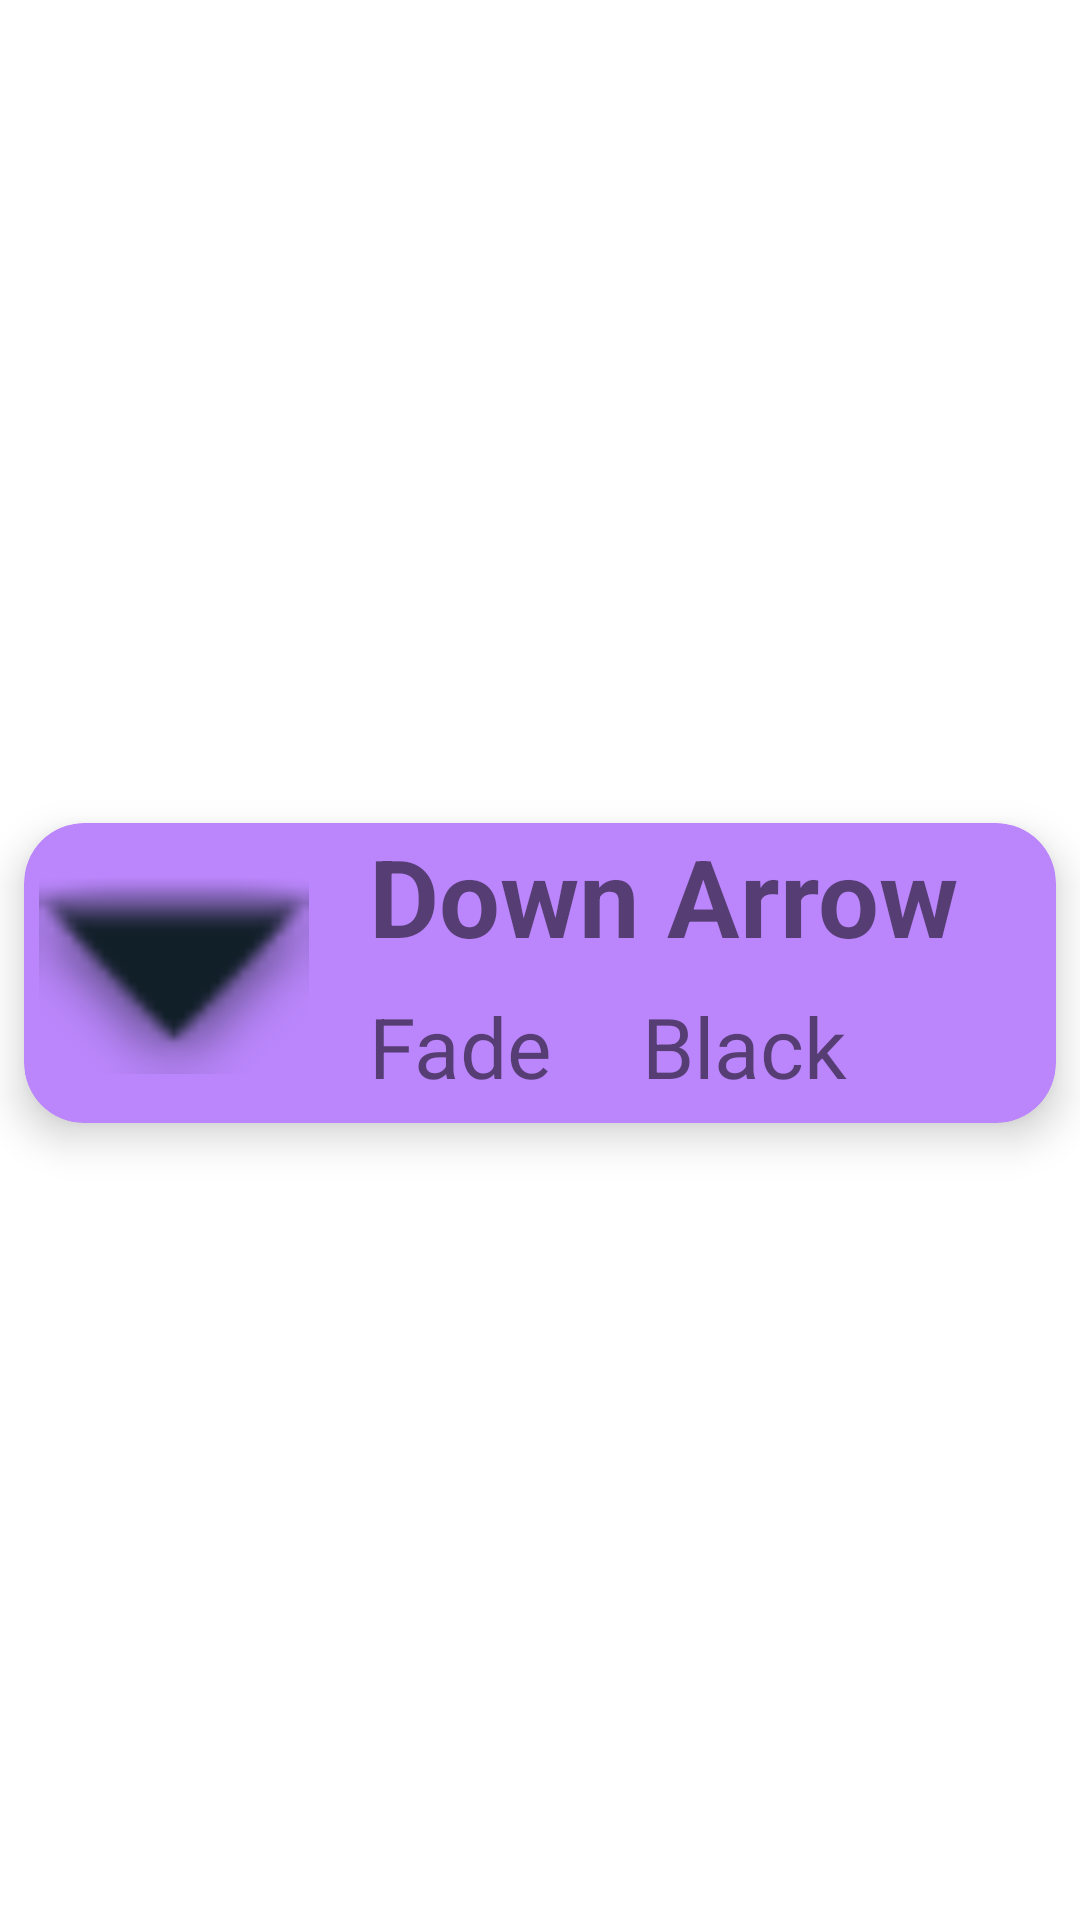

Named icons in this screenshot (1080 × 1920) and their centers, point (x, y):
arrow down float: point (174, 973)
